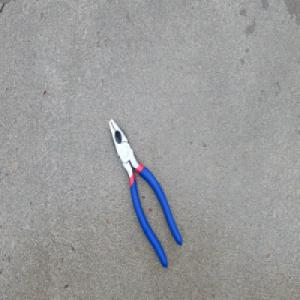Pliers: (109, 117, 183, 270)
